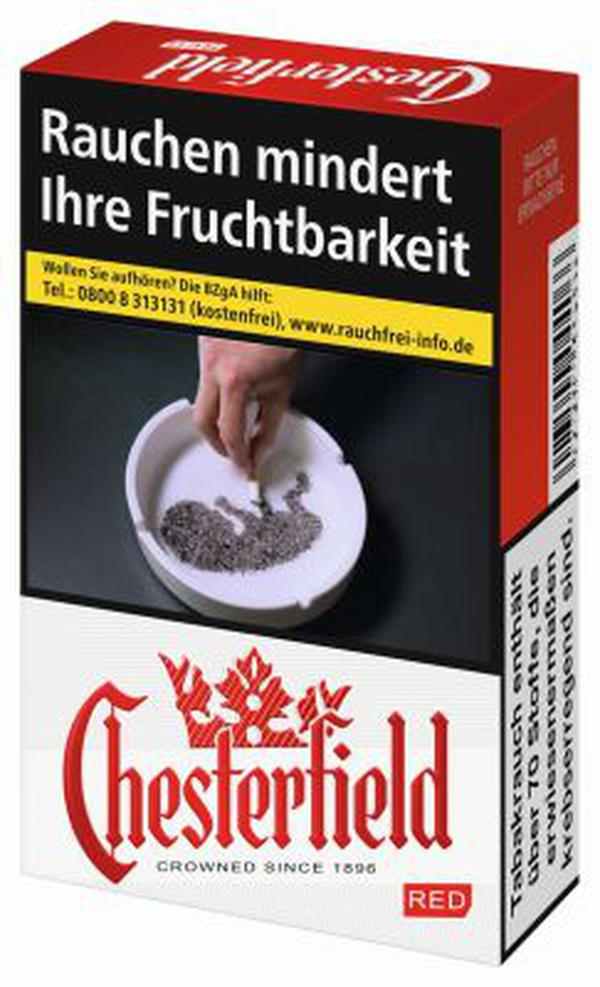chesterfield_red: (23, 139, 504, 886)
